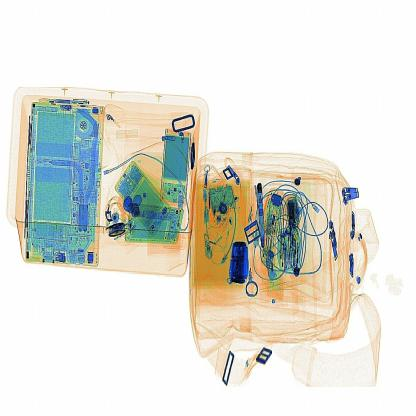scissors: (221, 234, 254, 296)
